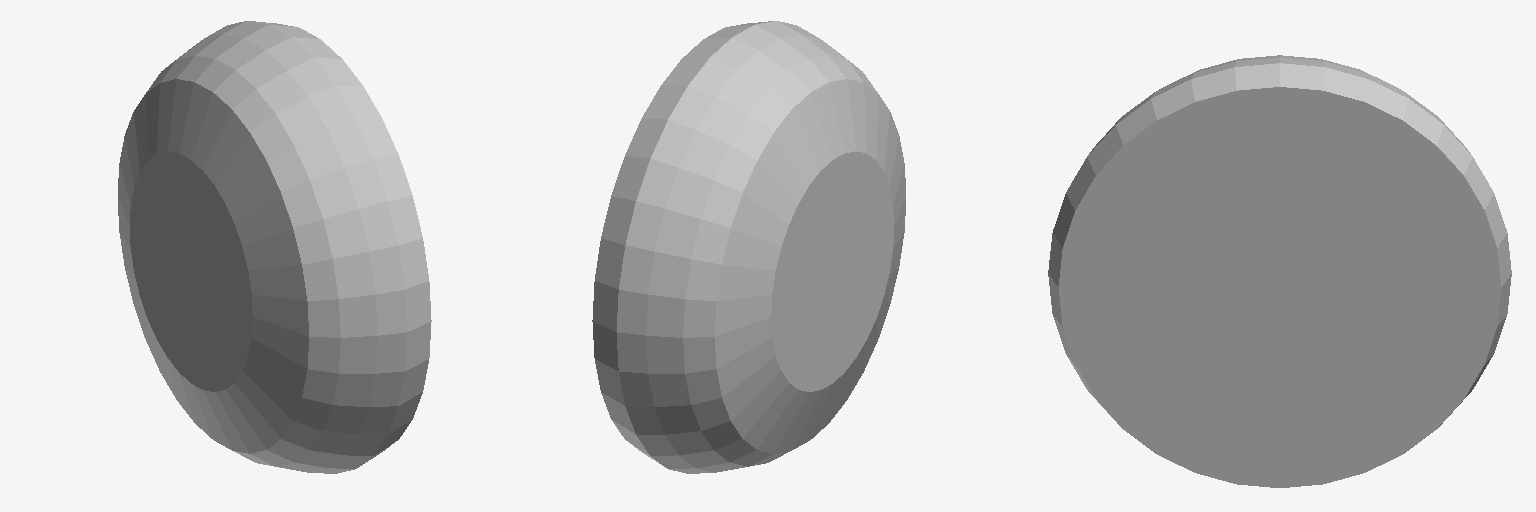
File: moon.obj
The picture shows the model from 3 angles: view 1: azimuth 30°, elevation 25°; view 2: azimuth 150°, elevation 25°; view 3: azimuth 270°, elevation 25°; orthographic projection.
Visible parts, largest first — view 1: Cylinder; view 2: Cylinder; view 3: Cylinder.
Part boxes in pixels (left/top/right/bottom): Cylinder: left=118, top=21, right=431, bottom=473; Cylinder: left=592, top=21, right=905, bottom=473; Cylinder: left=1048, top=55, right=1511, bottom=487.
Bounding box in the file's own units: 2.5 × 7.75 × 7.75.